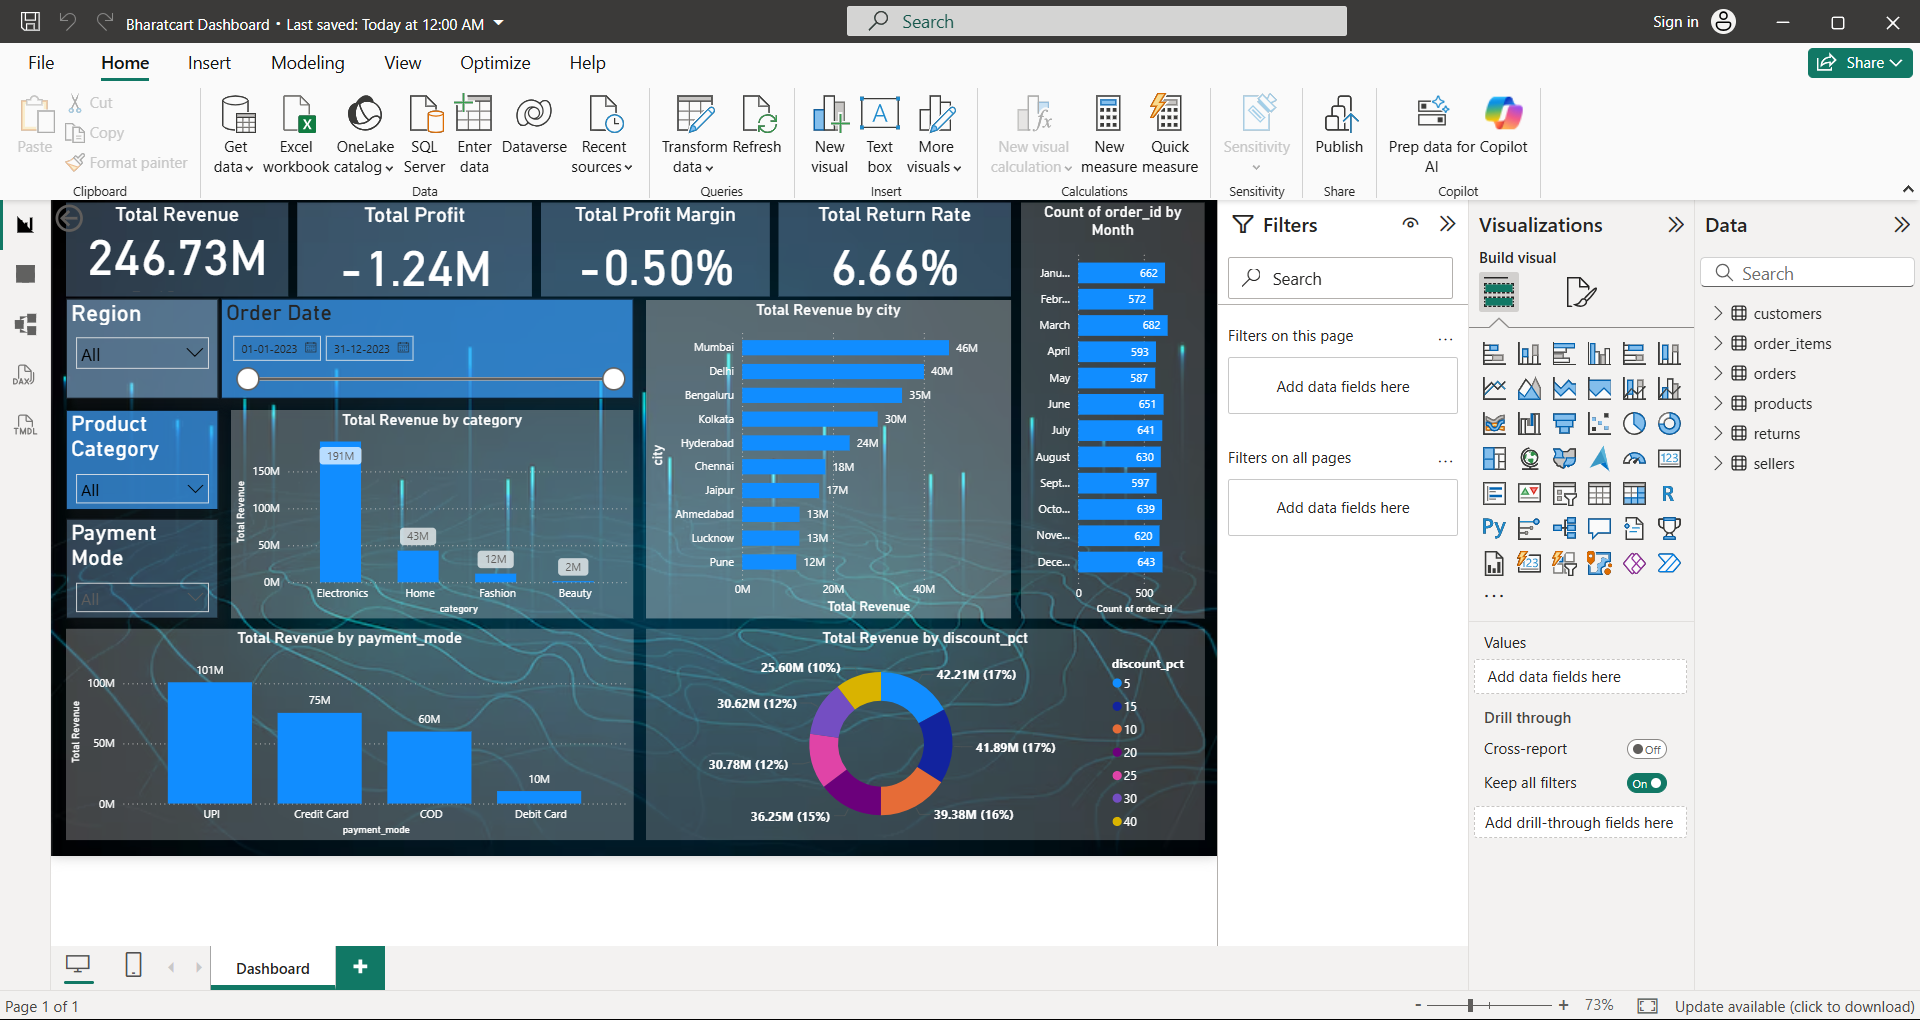

What the dashboard file says about the page in this screenshot:
{"tool":"powerbi","page":{"name":"Dashboard","canvas":[1280,720],"ordinal":0},"visuals":[{"type":"slicer","title":"Region","fields":{"Values":["orders.region"]},"box":[16.5,108.4,167.4,109.8],"z":0},{"type":"slicer","title":"Product Category","fields":{"Values":["products.category"]},"box":[16.5,230.5,167.4,109.8],"z":1000},{"type":"slicer","title":"Payment Mode","fields":{"Values":["orders.payment_mode"]},"box":[16.5,349.9,167.4,109.8],"z":2000},{"type":"slicer","title":"Order Date","fields":{"Values":["orders.order_date"]},"box":[186.6,108.4,452.8,109.8],"z":3000},{"type":"card","title":"Total Revenue","fields":{"Values":["customers.Total Revenue"]},"box":[16.5,2.7,244.3,102.9],"z":4000},{"type":"card","title":"Total Profit","fields":{"Values":["customers.Total Profit"]},"box":[270.3,2.7,258,102.9],"z":5000},{"type":"card","title":"Total Profit Margin","fields":{"Values":["customers.Profit Margin %"]},"box":[537.9,2.7,251.1,102.9],"z":6000},{"type":"card","title":"Total Return Rate","fields":{"Values":["customers.Return Rate %"]},"box":[798.6,2.7,255.2,102.9],"z":7000},{"type":"actionButton","box":[0,0,100,40],"z":8000},{"type":"lineStackedColumnComboChart","fields":{"Category":["products.category"],"Y":["customers.Total Revenue"]},"box":[197.6,230.5,441.9,229.2],"z":9000},{"type":"barChart","fields":{"Y":["customers.Total Revenue"],"Category":["orders.city"]},"box":[653.2,109.8,400.7,349.9],"z":10000},{"type":"lineClusteredColumnComboChart","fields":{"Y":["customers.Total Revenue"],"Category":["orders.payment_mode"]},"box":[16.5,470.7,623,231.9],"z":11000},{"type":"donutChart","fields":{"Category":["order_items.discount_pct"],"Y":["customers.Total Revenue"]},"box":[653.2,470.7,613.4,231.9],"z":12000},{"type":"barChart","fields":{"Category":["orders.order_date.Variation.Date Hierarchy.Month"],"Y":["CountNonNull(order_items.order_id)"]},"box":[1064.8,2.7,201.7,456.9],"z":13000}]}

Visuals, with their boxes on the page's 1280x720 design canvas (x1, y1, x2, y2). These are canvas units, not pixel positions in the 1920x1020 screenshot, which may show the page scaled, cropped or inside an application window:
"Region" slicer: (16,108,184,218)
"Product Category" slicer: (16,230,184,340)
"Payment Mode" slicer: (16,350,184,460)
"Order Date" slicer: (187,108,639,218)
"Total Revenue" card: (16,3,261,106)
"Total Profit" card: (270,3,528,106)
"Total Profit Margin" card: (538,3,789,106)
"Total Return Rate" card: (799,3,1054,106)
actionButton: (0,0,100,40)
lineStackedColumnComboChart - products.category x customers.Total Revenue: (198,230,640,460)
barChart - customers.Total Revenue x orders.city: (653,110,1054,460)
lineClusteredColumnComboChart - customers.Total Revenue x orders.payment_mode: (16,471,640,703)
donutChart - order_items.discount_pct x customers.Total Revenue: (653,471,1267,703)
barChart - orders.order_date.Variation.Date Hierarchy.Month x CountNonNull(order_items.order_id): (1065,3,1266,460)
